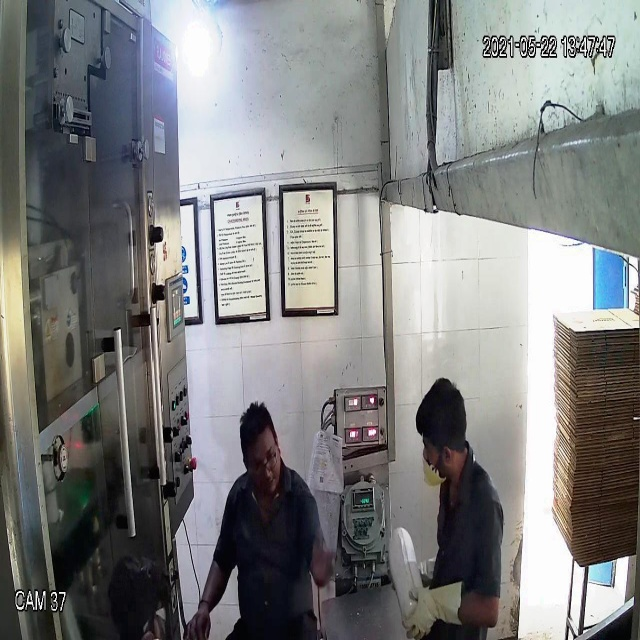Gafas: (245, 445, 283, 483)
